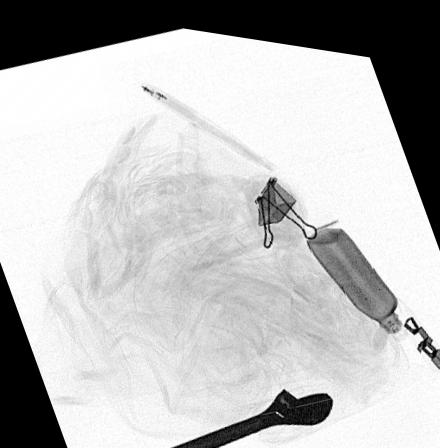Wrench: (151, 378, 334, 448)
